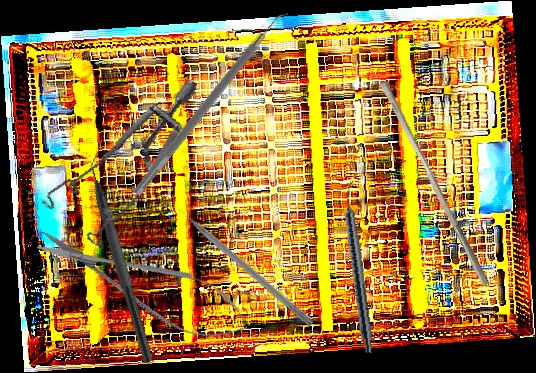Chopper: (78, 145, 170, 364)
Handpiece: (338, 180, 379, 354)
Micro Scissor: (28, 212, 259, 356)
Pusher: (373, 80, 498, 287), (167, 196, 316, 328)
Spatula Surgical: (132, 5, 293, 203)
Speculum: (34, 51, 198, 262)
